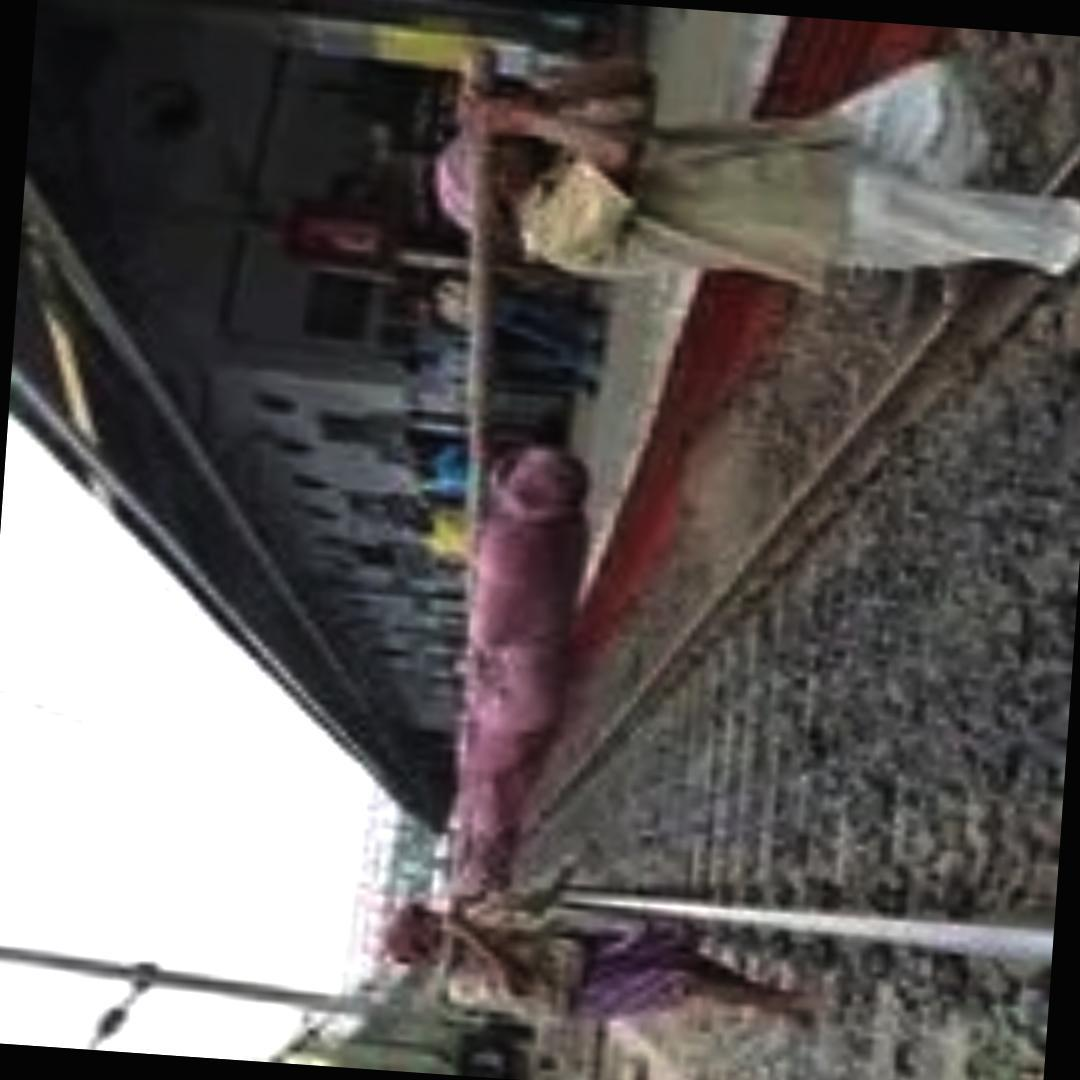sleeping: (424, 424, 600, 919)
standing: (425, 0, 1080, 310), (358, 879, 859, 1055)
track: (501, 86, 1080, 1046)
